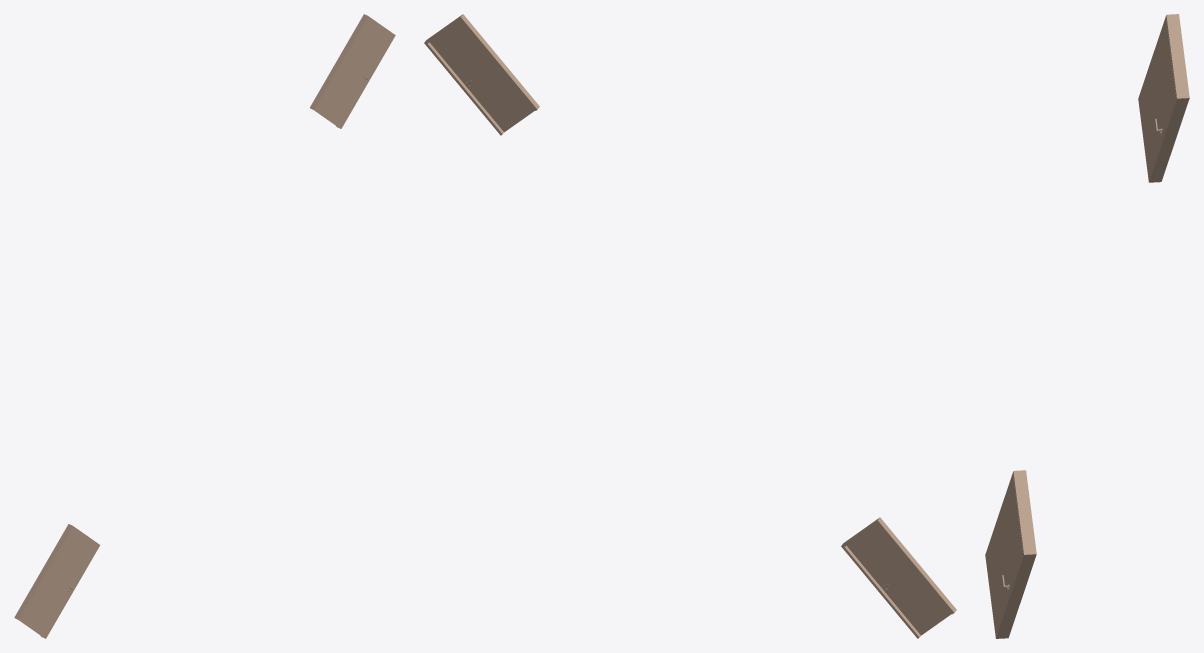
3 views of the same model, side by side, from view 1: azimuth 30°, elevation 25°; view 2: azimuth 150°, elevation 25°; view 3: azimuth 270°, elevation 25° (orthographic). The views are drawn at different scales.
Parts seen in each view (by area): view 1: mesh; view 2: mesh; view 3: mesh.
Part boxes in pixels (x1=…): mesh: x1=14, y1=14, x2=395, y2=638; mesh: x1=424, y1=14, x2=956, y2=638; mesh: x1=985, y1=14, x2=1189, y2=638.
Bounding box in the file's own units: 9.27 × 10.39 × 1.98.
